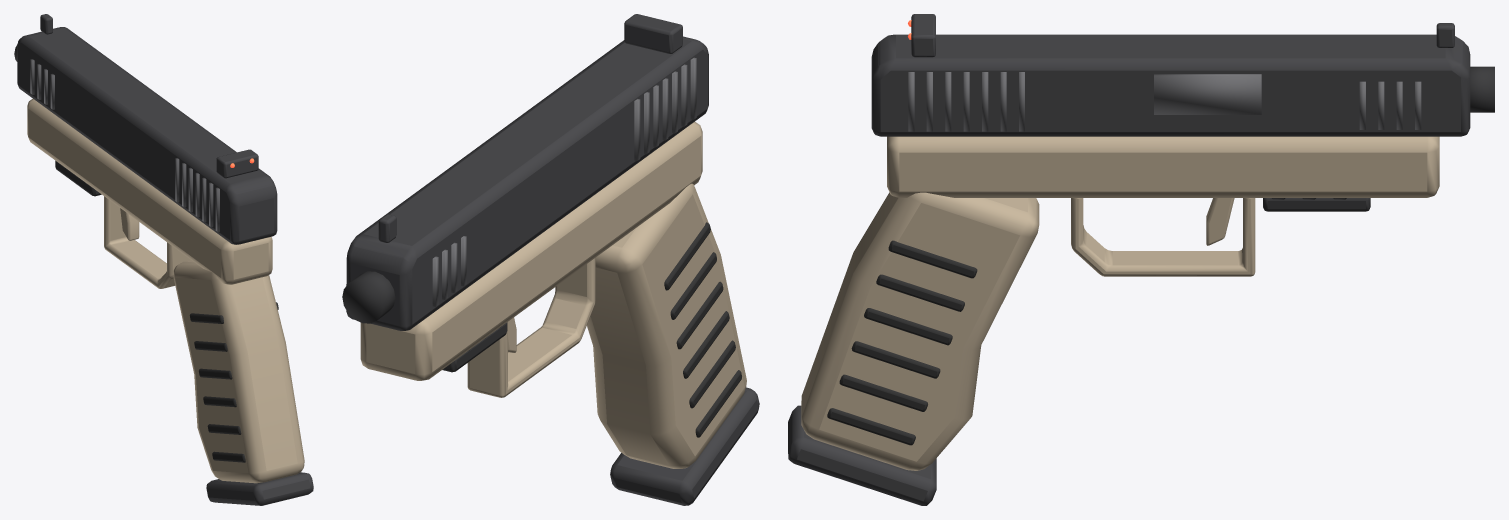
The model's file is w_fiveseven.glb.
3 views of the same model, side by side, from view 1: azimuth 30°, elevation 25°; view 2: azimuth 150°, elevation 25°; view 3: azimuth 270°, elevation 25° (orthographic). The views are drawn at different scales.
Visible parts, largest first — view 1: body, slide, mag; view 2: body, slide, mag; view 3: body, slide, mag.
Part boxes in pixels (x1,y1,x2,y2): body: [14, 44, 304, 483]; slide: [17, 14, 277, 244]; mag: [206, 472, 313, 505]; body: [342, 121, 746, 468]; slide: [346, 14, 708, 330]; mag: [610, 387, 759, 505]; body: [801, 66, 1494, 470]; slide: [871, 14, 1470, 136]; mag: [788, 405, 936, 505].
Bounding box in the file's own units: 0.0272 × 0.1519 × 0.2091.
